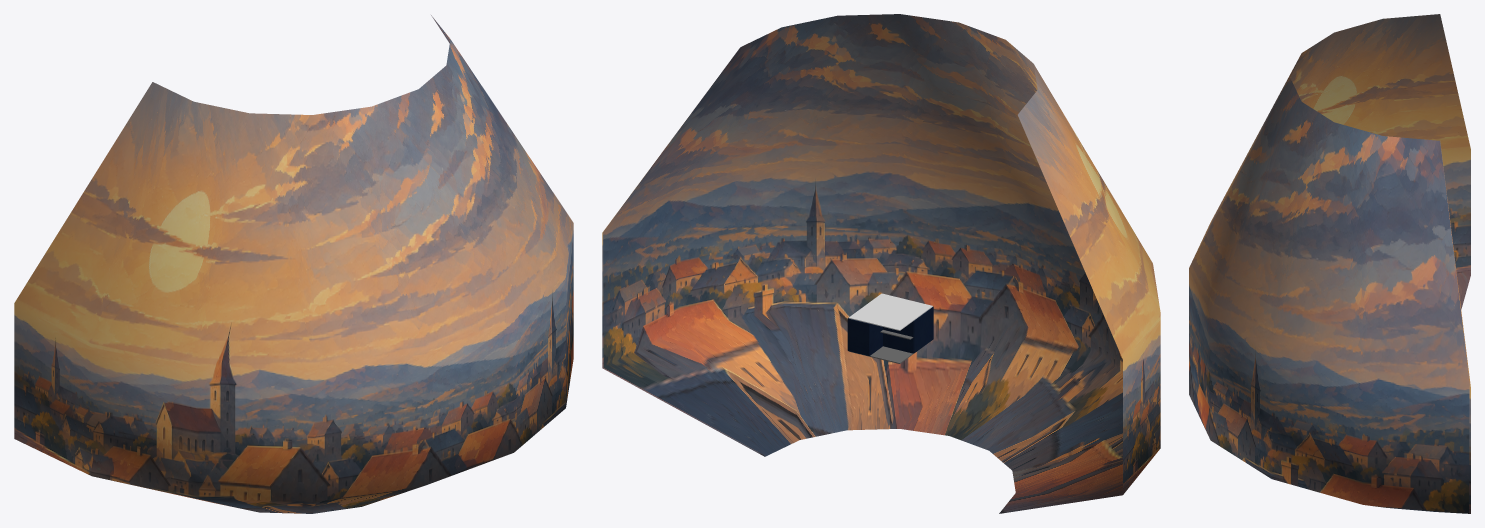
The model's file is gallery-blockout-CSsP304v.glb.
The picture shows the model from 3 angles, left to right: view 1: azimuth 30°, elevation 25°; view 2: azimuth 150°, elevation 25°; view 3: azimuth 270°, elevation 25°; orthographic projection. The views are drawn at different scales.
Visible parts, largest first — view 1: Cylinder; view 2: Cylinder, ceiling.001, wall-back-2, wall-left, wall-back; view 3: Cylinder.
Boxes of the visible parts, box(x1,y1,x2,y2) form: Cylinder: box(14, 15, 573, 513); Cylinder: box(602, 14, 1160, 513); ceiling.001: box(848, 293, 932, 330); wall-back-2: box(848, 318, 869, 355); wall-left: box(913, 307, 933, 353); wall-back: box(883, 321, 913, 353); Cylinder: box(1189, 14, 1470, 513).
Bounding box in the file's own units: 122 × 91.03 × 61.
24 materials, 7 textured.
